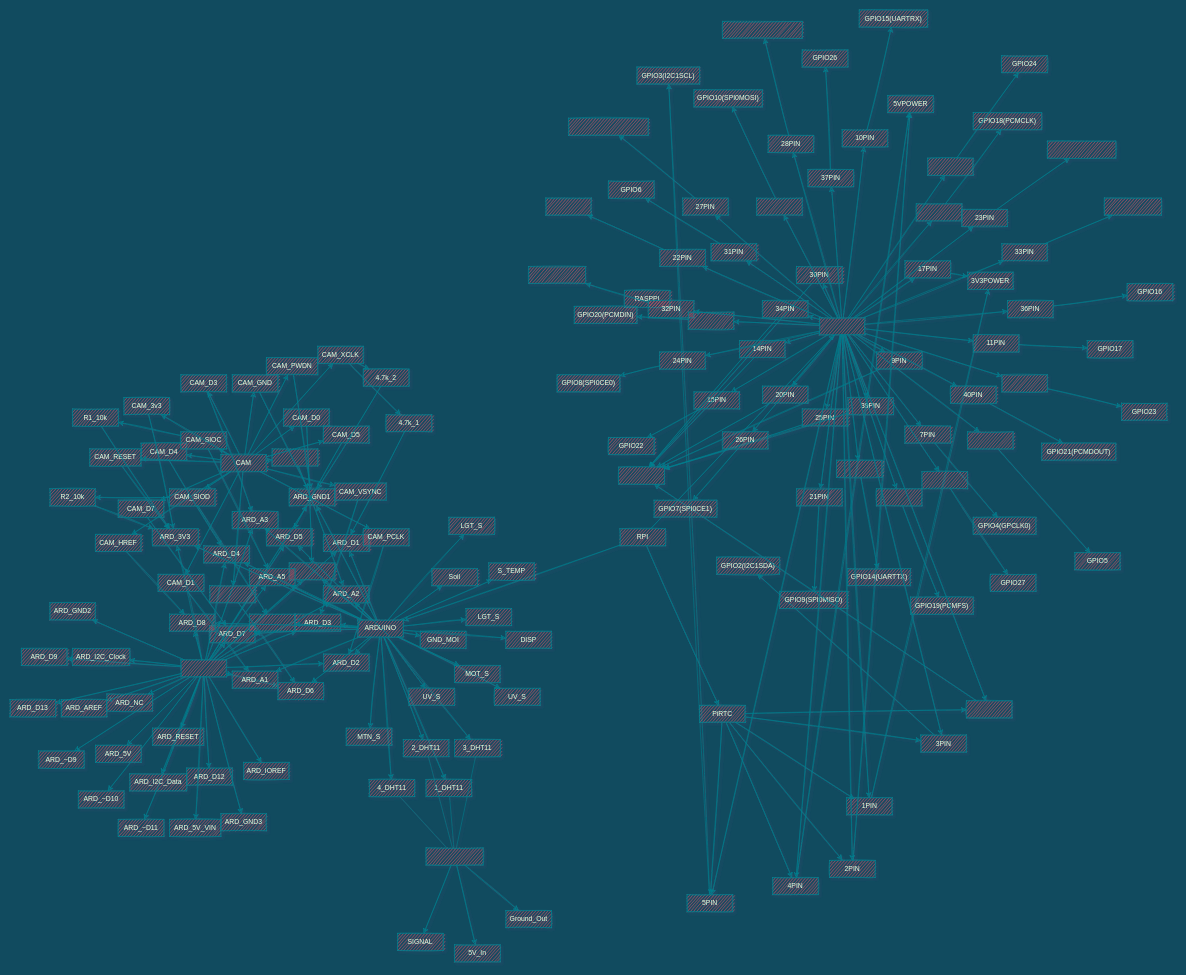
This 1186x975 diagram has some shape labels left out. Here are the shapes that lost their labels. From the top down, the centre of each, then its label:
(762,29): GPIO1(EEPROMSCL)
(608,126): GPIO0(EEPROMSDA)
(950,166): 18PIN
(1081,149): GPIO11(SPI0MISO)
(568,206): GPIO25
(779,206): 19PIN
(939,212): 12PIN
(1132,206): GPIO13(PWM1)
(557,275): GPIO12(PWM0)
(711,320): 38PIN
(842,326): GPIO
(1024,383): 16PIN
(295,457): CAM_D2
(990,440): 29PIN
(641,475): GROUND
(859,468): 8PIN
(944,480): 13PIN
(899,497): 35PIN
(312,571): ARD_A0
(232,594): CAM_D6
(272,622): ARD_A4
(203,668): ARD
(989,709): 6PIN
(454,856): DHT11_Sensor
